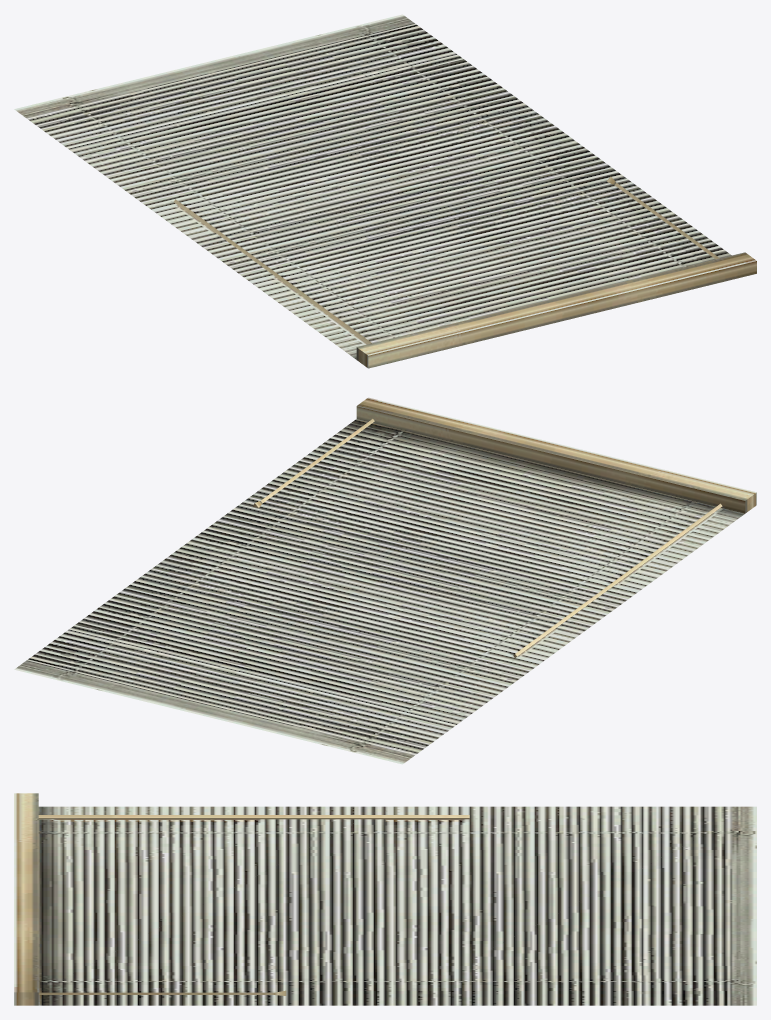
Rendered from blinds.fbx.
3 renders of one model, top to bottom at view 1: azimuth 30°, elevation 25°; view 2: azimuth 150°, elevation 25°; view 3: azimuth 270°, elevation 25°, orthographic. The views are drawn at different scales.
Visible parts, largest first — view 1: mesh_0; view 2: mesh_0; view 3: mesh_0.
Part boxes in pixels (box(x1,y1,x2,y2)): mesh_0: box(14, 14, 756, 368); mesh_0: box(14, 397, 756, 764); mesh_0: box(14, 793, 756, 1005).
Size of the model in its own units: 190 by 6 by 300.
Materials: 1 (1 with a texture image).
